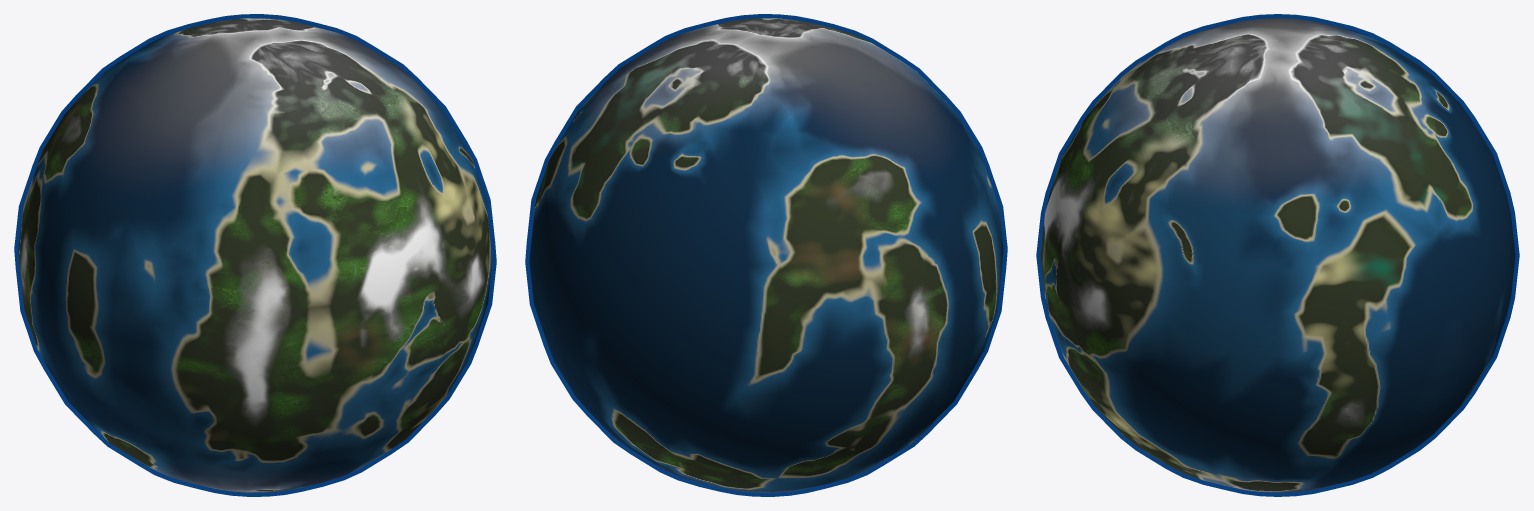
The model's file is Planet.fbx.
The picture shows the model from 3 angles, left to right: view 1: azimuth 30°, elevation 25°; view 2: azimuth 150°, elevation 25°; view 3: azimuth 270°, elevation 25°; orthographic projection.
Parts seen in each view (by area): view 1: Planet; view 2: Planet; view 3: Planet.
Boxes of the visible parts, left/top/right/bottom form: Planet: left=14, top=14, right=496, bottom=496; Planet: left=525, top=14, right=1007, bottom=496; Planet: left=1036, top=14, right=1519, bottom=496.
Bounding box in the file's own units: 204 × 204 × 204.
